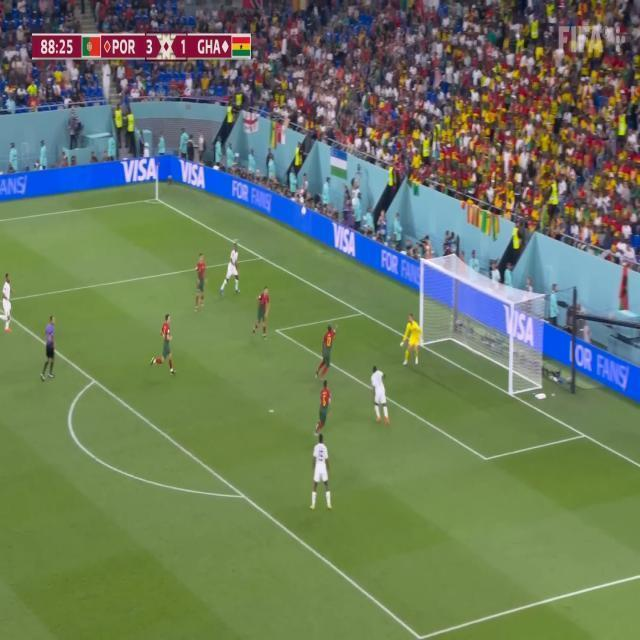player: (307, 431, 337, 516), (152, 309, 179, 378), (222, 233, 242, 303), (318, 317, 339, 383), (314, 378, 334, 439), (253, 278, 271, 343), (370, 362, 389, 421), (402, 311, 422, 366), (194, 251, 213, 307), (0, 268, 15, 337)
